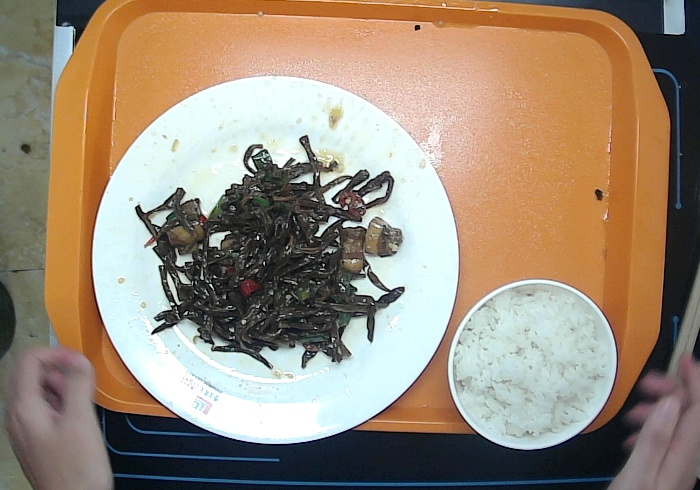ZNLD-Da_Yuan_Pan: (85, 69, 470, 448)
ZNLD-Fan_Wan: (443, 270, 619, 458)
